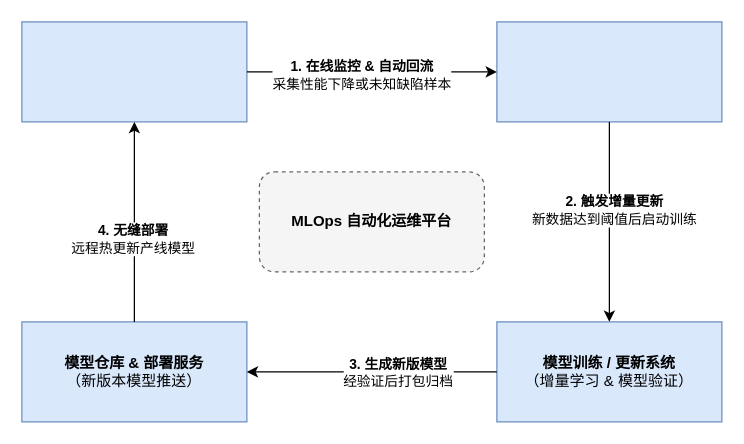
The diagram is 744 pixels wide and 444 high, and some of its shapes have lost their labels. The shapes that lost their labels are listed below. From the top down, each one's centre as x and y in pixels, then its label:
At (x=134, y=71): "生产线实时检测 （部署端模型运行）".
At (x=609, y=71): "数据池 & 标注系统 （新样本入库 & 半自动标注）".
